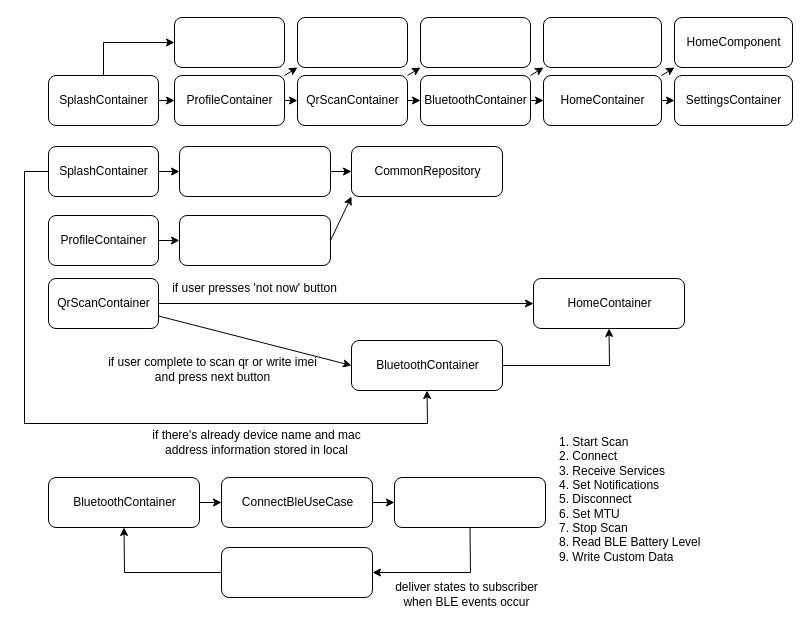
Some shapes in this 810 by 627 pixel diagram are drawn without their labels. Each missing label, with the box of its shape:
BleRepository: (394, 476, 546, 528)
BluetoothComponent: (542, 16, 662, 68)
ControlAppStateUseCase: (178, 146, 330, 196)
ProfileComponent: (296, 16, 408, 68)
QrScanComponent: (420, 16, 530, 68)
SetProfileInfoUseCase: (178, 214, 330, 266)
SplashComponent: (174, 16, 284, 68)
State Managerment Library Recoil: (220, 546, 372, 598)
